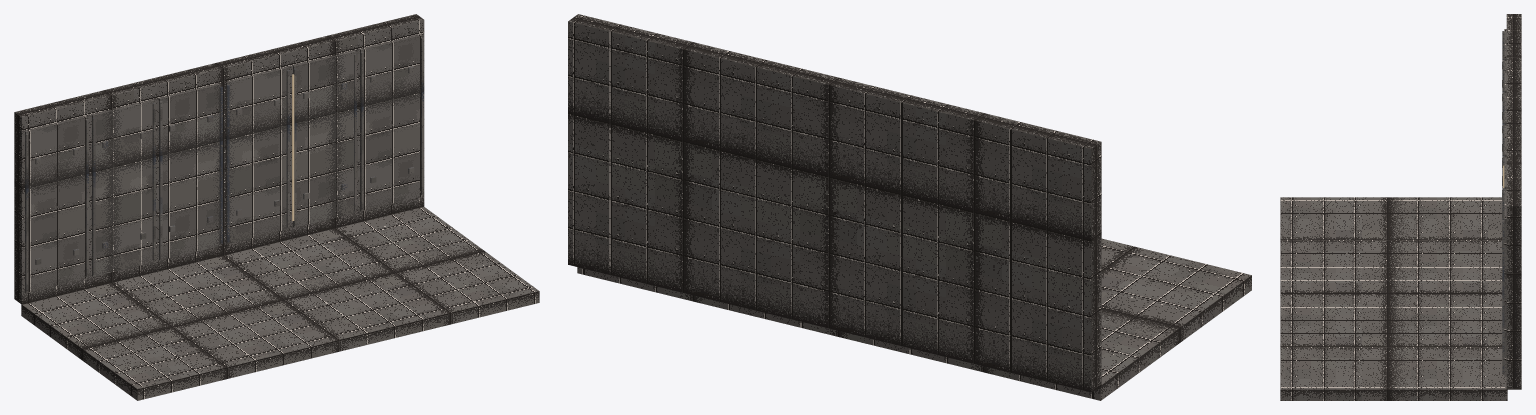
File: secret_light_leak.glb
The picture shows the model from 3 angles, left to right: view 1: azimuth 30°, elevation 25°; view 2: azimuth 150°, elevation 25°; view 3: azimuth 270°, elevation 25°; orthographic projection. The views are drawn at different scales.
Parts seen in each view (by area): view 1: secret_light_leak; view 2: secret_light_leak; view 3: secret_light_leak.
Boxes of the visible parts, left/top/right/bottom form: secret_light_leak: left=14, top=14, right=539, bottom=400; secret_light_leak: left=568, top=14, right=1251, bottom=400; secret_light_leak: left=1280, top=14, right=1521, bottom=400.
Size of the model in its own units: 7.2 by 3.4 by 3.82.
4 materials, 3 textured.
